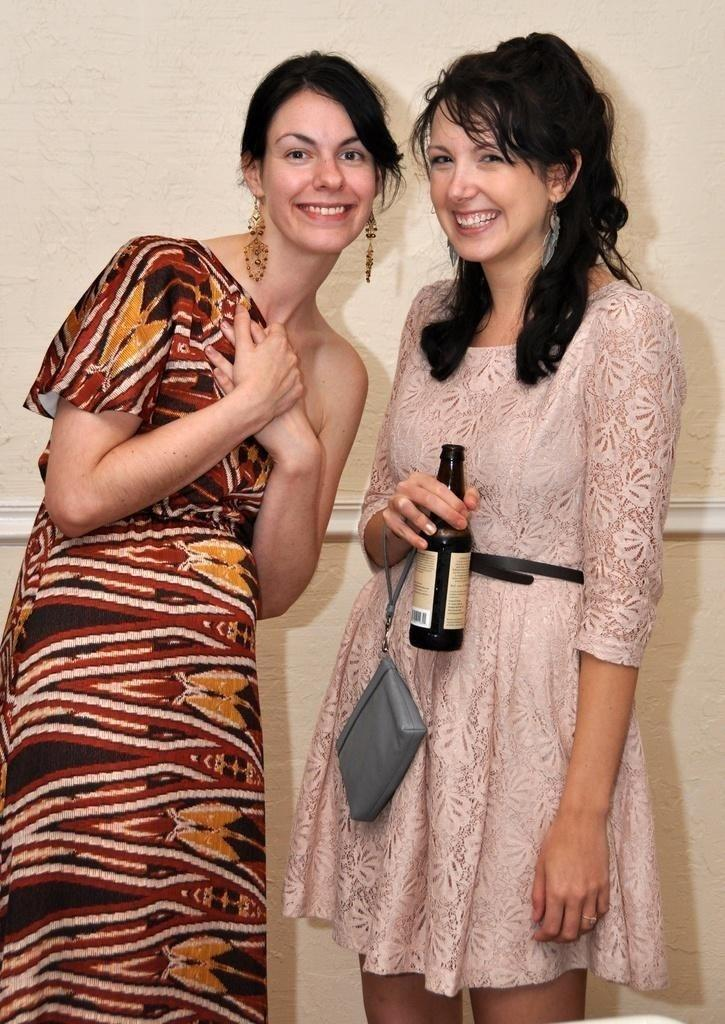bottle-glass: (405, 441, 476, 651)
